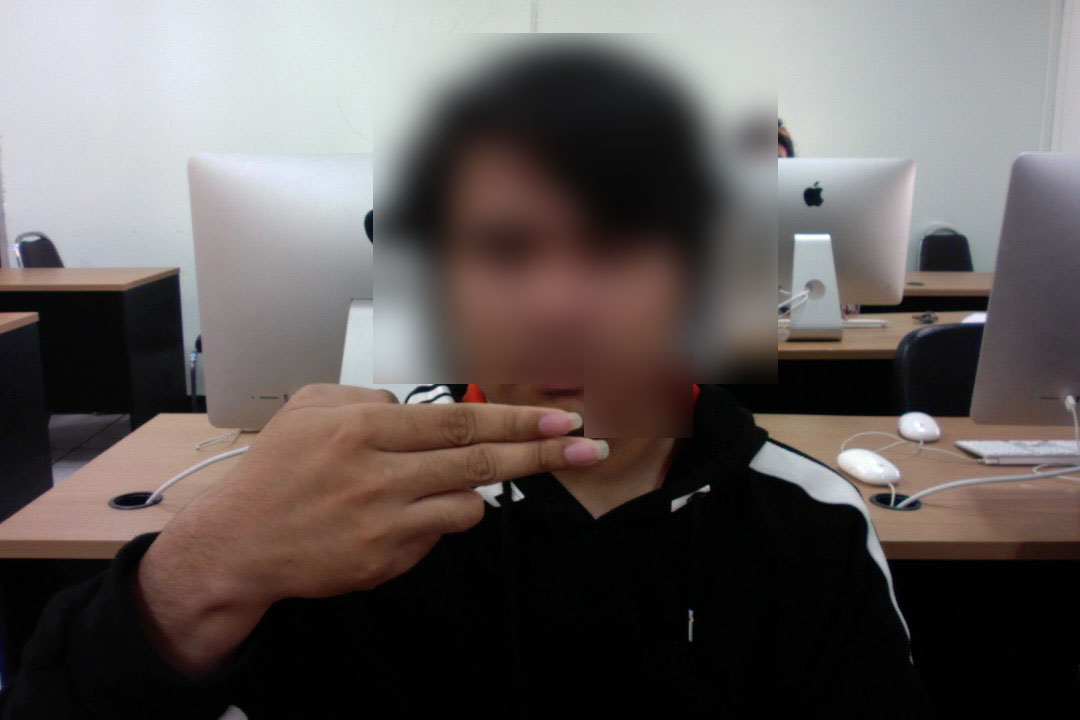hor: (167, 381, 619, 608)
